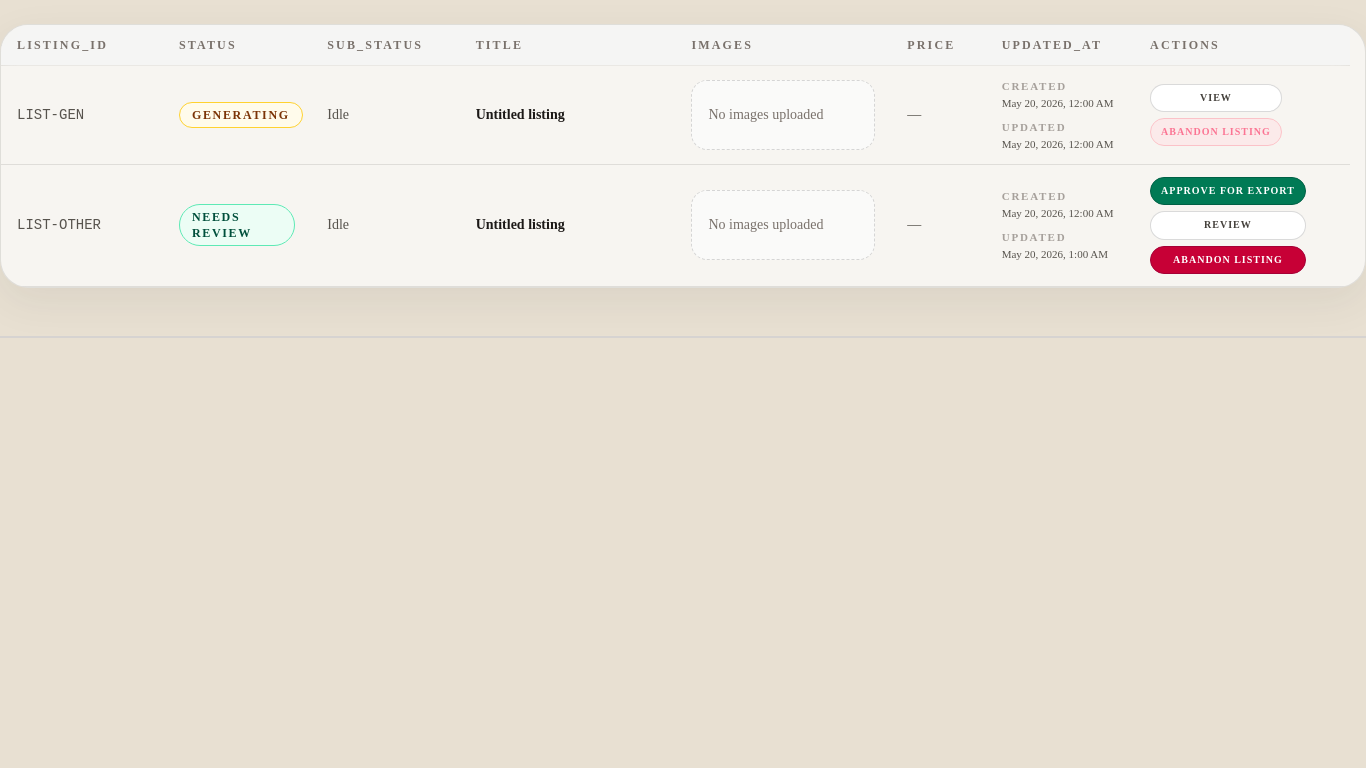
ListingsTableEditable reconciliation › closes an open listing when refreshed data no longer includes it
Click the button "View". click: [1216, 98]
box: [1150,84,1282,112]
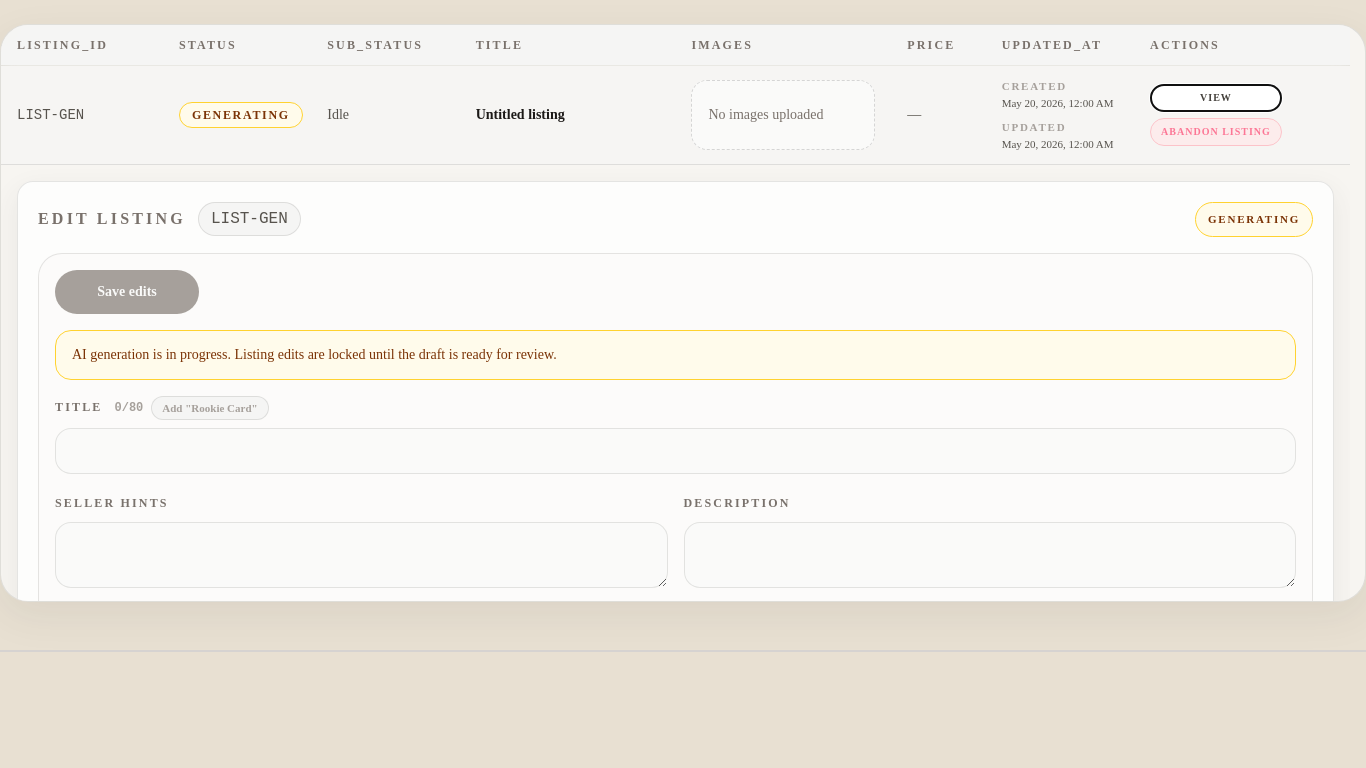
Expected: the text "Edit listing" is shown, [38,207,186,231]
